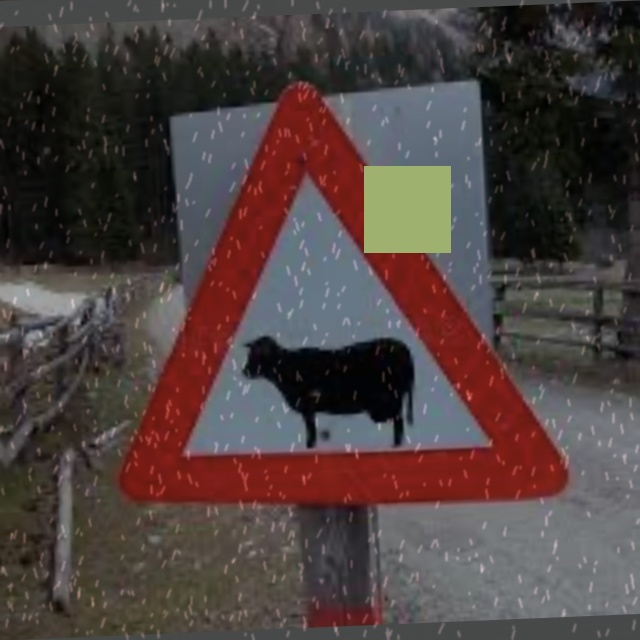Cattle: (135, 95, 551, 516)
